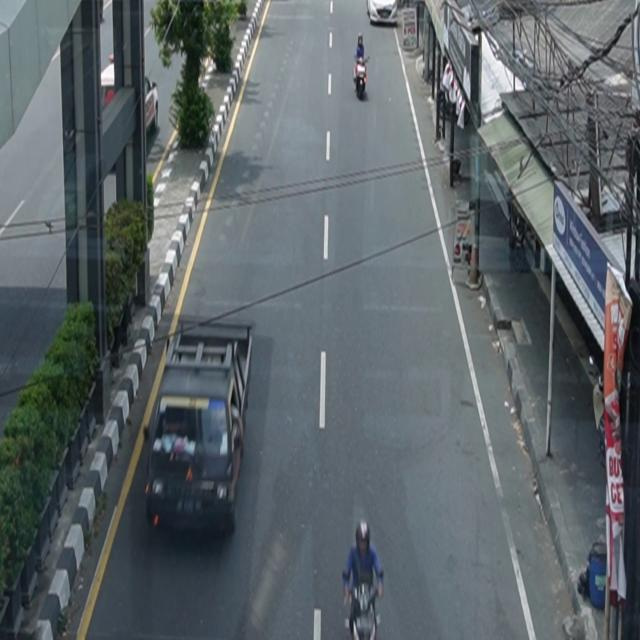bus: (145, 320, 253, 540)
car: (101, 56, 160, 136), (366, 1, 398, 26)
